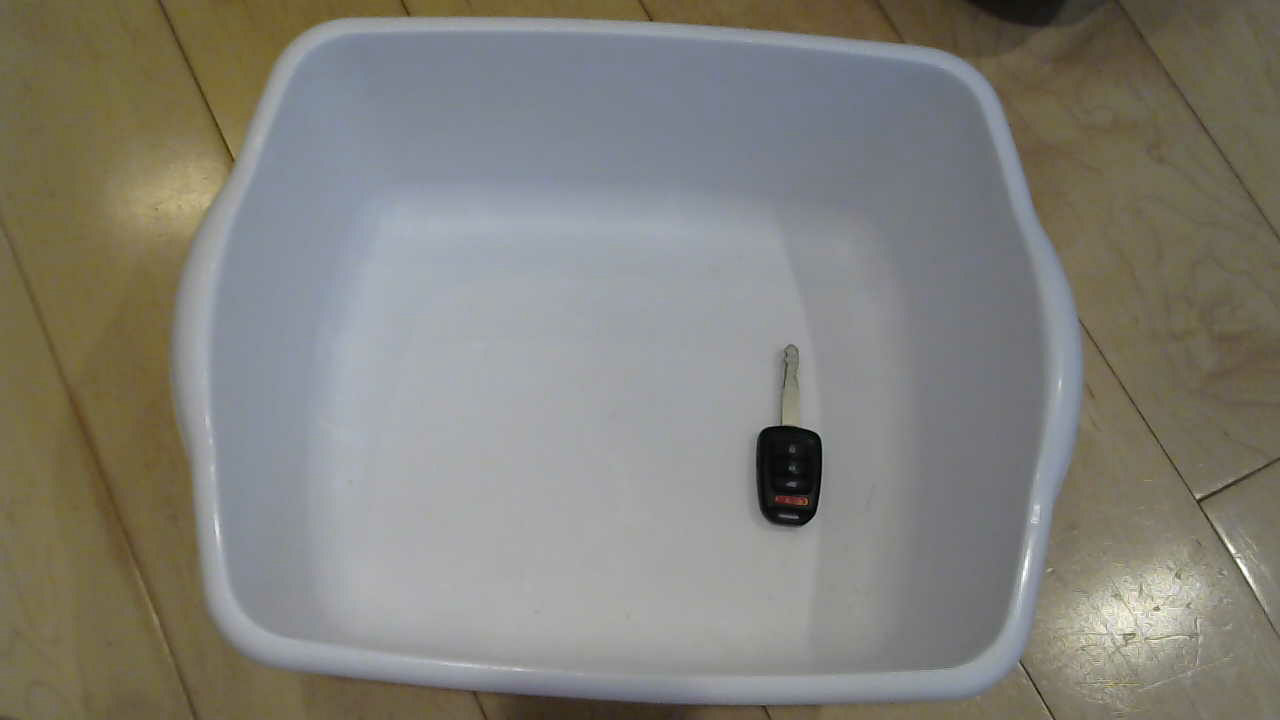key: (736, 336, 860, 541)
